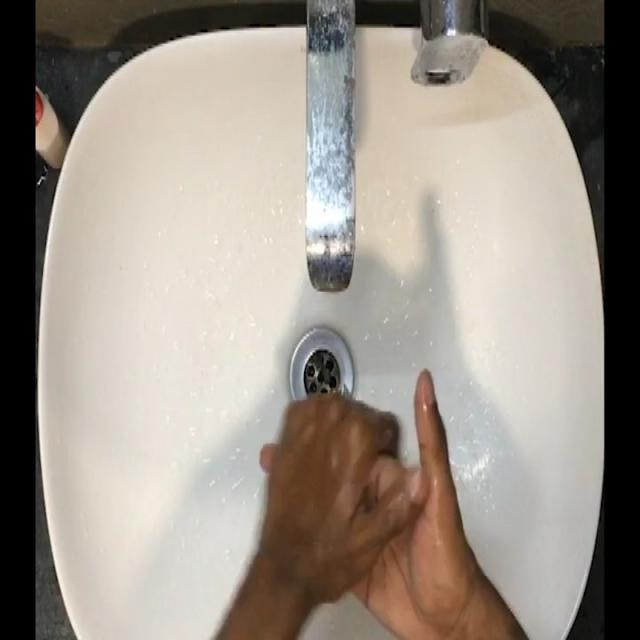step_5: (260, 364, 462, 634)
